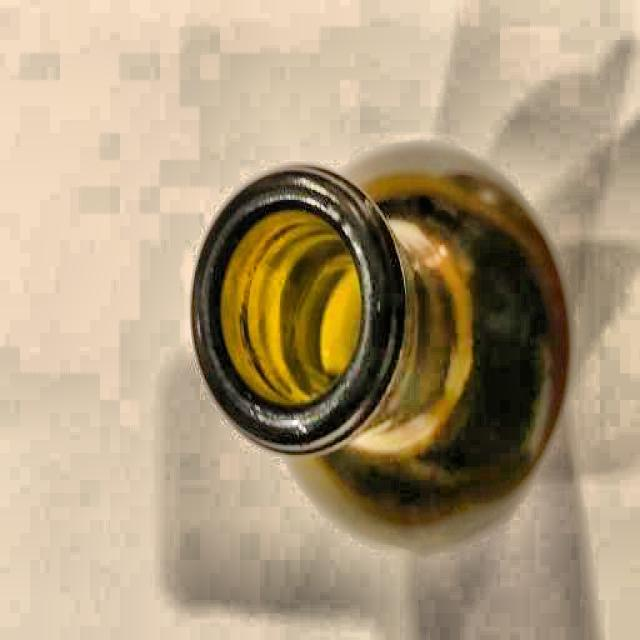glass: (189, 141, 562, 541)
